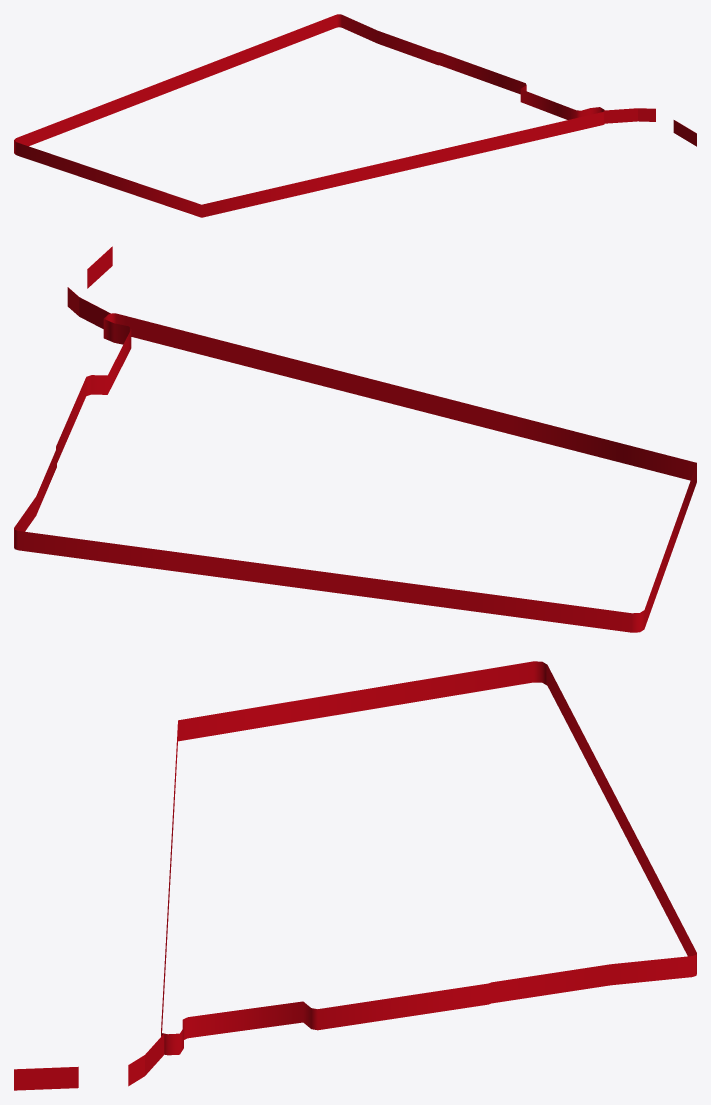
File: Sail_Curtains.fbx
3 renders of one model, top to bottom at view 1: azimuth 30°, elevation 25°; view 2: azimuth 150°, elevation 25°; view 3: azimuth 270°, elevation 25°, orthographic. The views are drawn at different scales.
Parts seen in each view (by area): view 1: Sail_geo.004, Sail_geo.008, Sail_geo.009, Sail_geo.002, Sail_geo.003, Sail_geo.005, Sail_geo.010, Sail_geo.007, Sail_geo.006, Sail_geo.011, Sail_geo.001, Sail_geo; view 2: Sail_geo.009, Sail_geo.008, Sail_geo.004, Sail_geo.002, Sail_geo.006, Sail_geo.003, Sail_geo.011, Sail_geo.007, Sail_geo.005, Sail_geo.001; view 3: Sail_geo.004, Sail_geo.005, Sail_geo.007, Sail_geo.010, Sail_geo.011, Sail_geo.009, Sail_geo, Sail_geo.001, Sail_geo.006.
Boxes of the visible parts, bbox=[...] form: Sail_geo.004: bbox=[14, 107, 108, 186]; Sail_geo.008: bbox=[332, 136, 497, 187]; Sail_geo.009: bbox=[96, 45, 256, 119]; Sail_geo.002: bbox=[201, 174, 331, 217]; Sail_geo.003: bbox=[498, 111, 604, 149]; Sail_geo.005: bbox=[339, 14, 437, 64]; Sail_geo.010: bbox=[109, 173, 201, 217]; Sail_geo.007: bbox=[438, 52, 526, 94]; Sail_geo.006: bbox=[256, 14, 338, 58]; Sail_geo.011: bbox=[520, 89, 604, 119]; Sail_geo.001: bbox=[604, 108, 655, 123]; Sail_geo: bbox=[673, 120, 696, 146]; Sail_geo.009: bbox=[171, 551, 478, 611]; Sail_geo.008: bbox=[268, 353, 508, 433]; Sail_geo.004: bbox=[478, 537, 670, 632]; Sail_geo.002: bbox=[508, 414, 696, 480]; Sail_geo.006: bbox=[14, 530, 171, 570]; Sail_geo.003: bbox=[112, 313, 268, 371]; Sail_geo.011: bbox=[103, 313, 131, 394]; Sail_geo.007: bbox=[56, 375, 107, 462]; Sail_geo.005: bbox=[14, 448, 56, 548]; Sail_geo.001: bbox=[67, 287, 110, 328]; Sail_geo.004: bbox=[355, 661, 584, 756]; Sail_geo.005: bbox=[491, 955, 696, 1003]; Sail_geo.007: bbox=[303, 982, 491, 1030]; Sail_geo.010: bbox=[178, 691, 355, 741]; Sail_geo.011: bbox=[162, 1001, 303, 1055]; Sail_geo.009: bbox=[584, 737, 659, 901]; Sail_geo: bbox=[14, 1066, 78, 1090]; Sail_geo.001: bbox=[128, 1033, 164, 1086]; Sail_geo.006: bbox=[659, 881, 696, 974].
Size of the model in its own units: 4059 by 98.46 by 2871.
